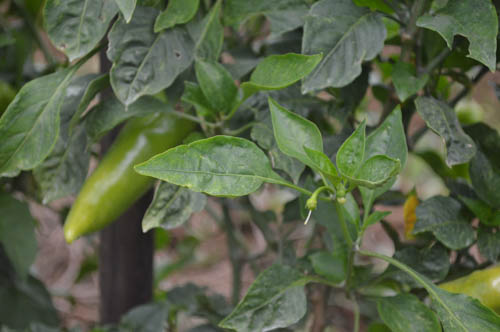ChiliPepper: (64, 113, 198, 244)
